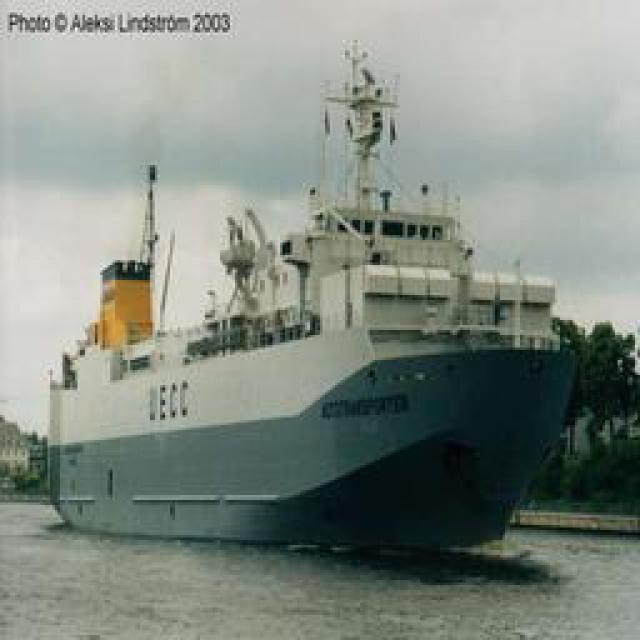Ship: (44, 35, 584, 555)
